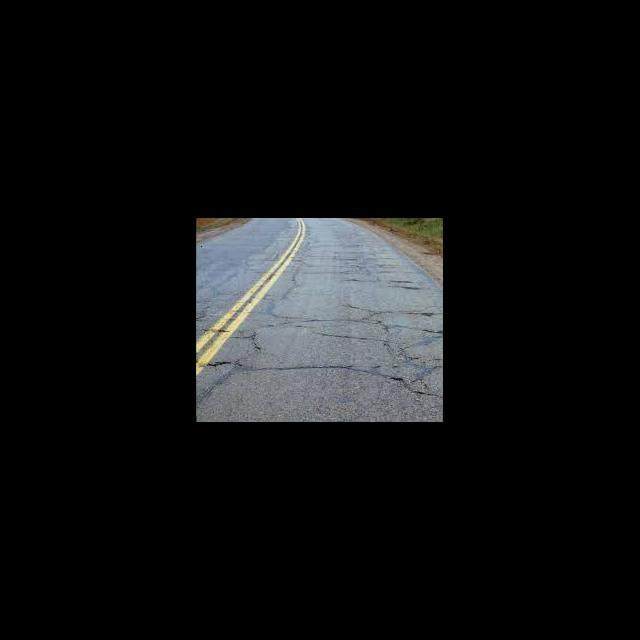retak_kulit_buaya: (298, 224, 408, 291)
retak_memanjang: (238, 346, 443, 399), (271, 307, 444, 341)
